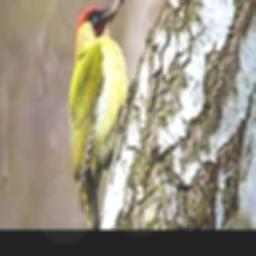Woodpecker: (67, 0, 138, 230)
